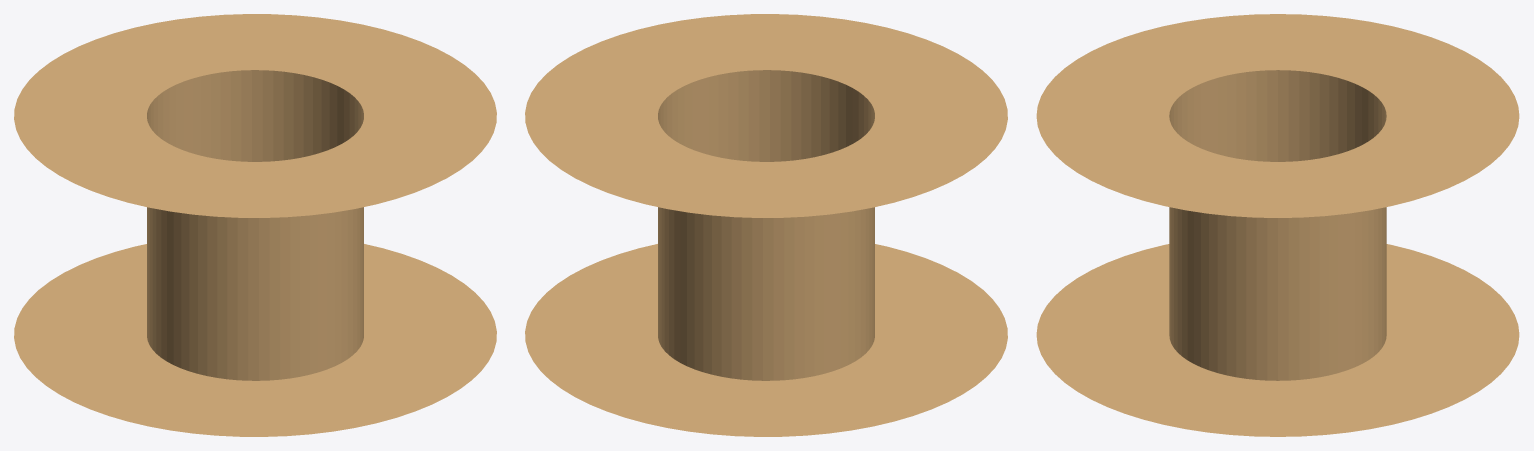
Rendered from board.glb.
The picture shows the model from 3 angles, left to right: view 1: azimuth 30°, elevation 25°; view 2: azimuth 150°, elevation 25°; view 3: azimuth 270°, elevation 25°; orthographic projection.
Visible parts, largest first — view 1: Unified_Via_0; view 2: Unified_Via_0; view 3: Unified_Via_0.
Part boxes in pixels (bbox=[...]): Unified_Via_0: bbox=[14, 14, 496, 436]; Unified_Via_0: bbox=[525, 14, 1007, 436]; Unified_Via_0: bbox=[1036, 14, 1519, 436].
Size of the model in its own units: 0.001 by 0.0005 by 0.001.
